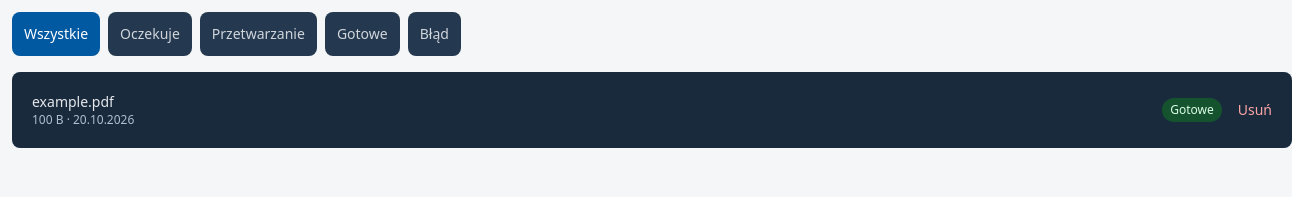
Scenario: document recovery UI › keeps filters available when their result is empty
Click the button "Oczekuje" at coordinates (150, 34), box [108, 12, 192, 56]
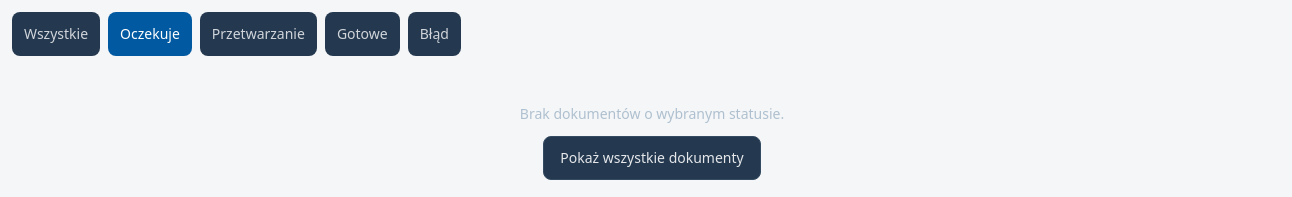
Expected: the text "Brak dokumentów o wybranym statusie." is shown, [520, 104, 784, 123]
Click the button "Wszystkie" at coordinates (56, 34), box [12, 12, 100, 56]
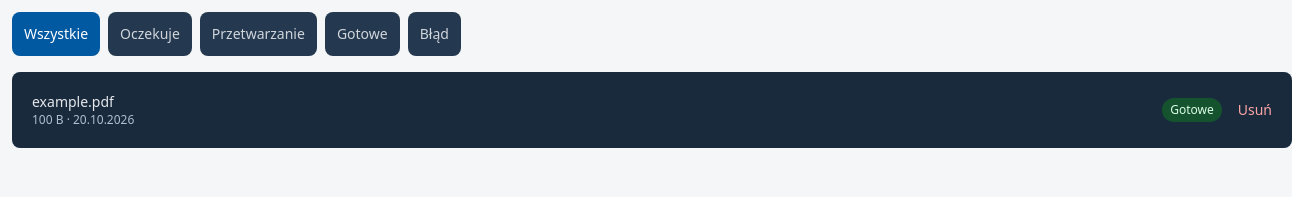
Expected: the button with aria-label "Otwórz dokument: example.pdf" is shown, [24, 84, 1154, 136]
